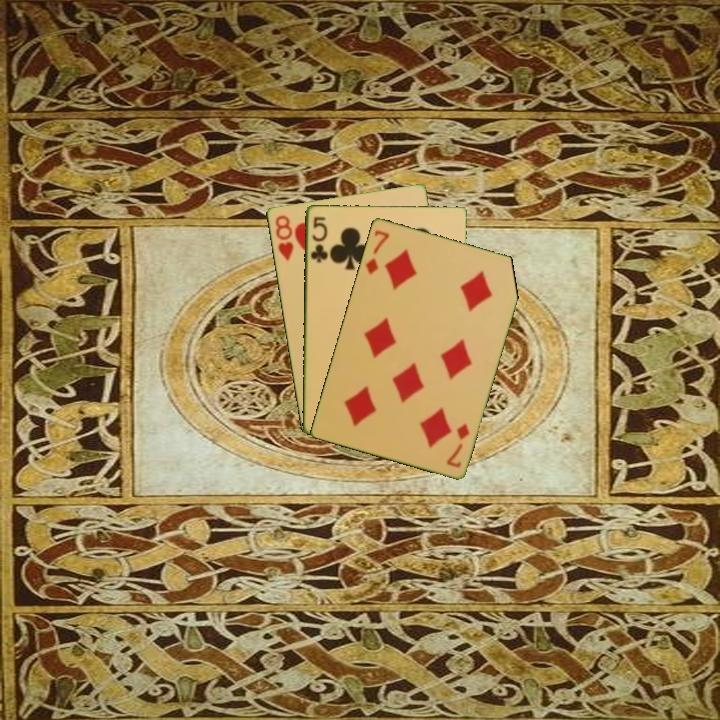5c: (307, 213, 330, 265)
7d: (361, 226, 392, 277), (443, 419, 472, 470)
8h: (271, 211, 296, 263)
